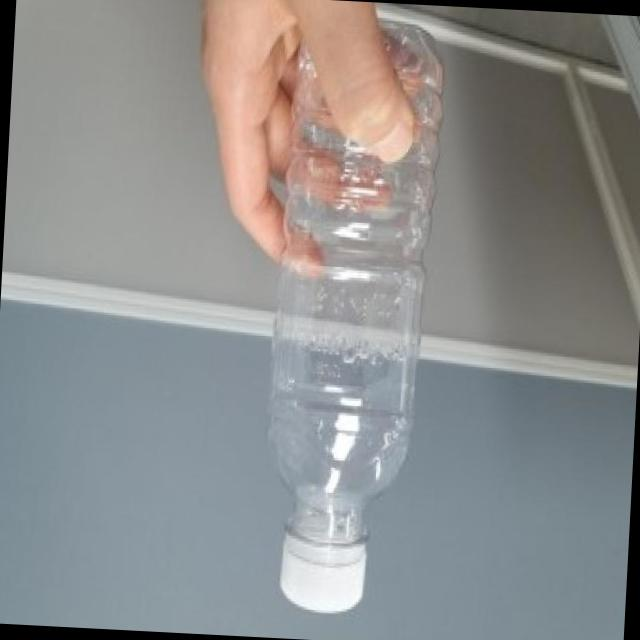plastic_bottle: (254, 6, 447, 618)
